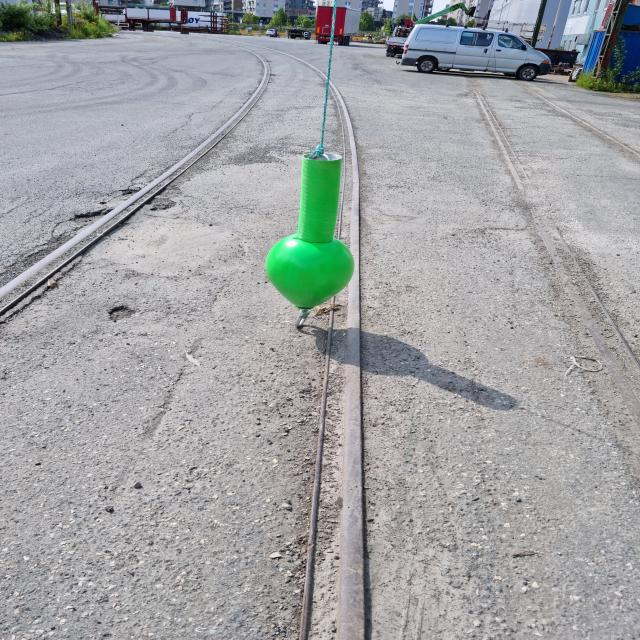green: (266, 153, 355, 310)
